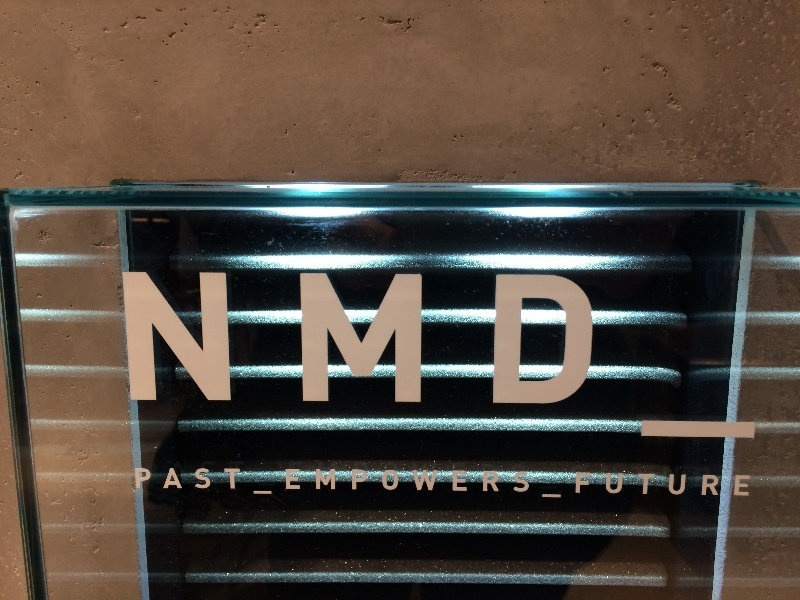text: (577, 272, 593, 404), (129, 272, 144, 404), (145, 272, 160, 404), (161, 272, 176, 404), (177, 272, 192, 404), (193, 272, 208, 404), (209, 272, 224, 404), (225, 272, 240, 404), (241, 272, 256, 404), (257, 272, 272, 404), (273, 272, 288, 404), (289, 272, 304, 404), (305, 272, 320, 404), (321, 272, 336, 404), (337, 272, 352, 404), (353, 272, 368, 404), (369, 272, 384, 404), (385, 272, 400, 404), (401, 272, 416, 404), (417, 272, 432, 404), (433, 272, 448, 404), (449, 272, 464, 404), (465, 272, 480, 404), (481, 272, 496, 404), (497, 272, 512, 404), (513, 272, 528, 404), (529, 272, 544, 404), (545, 272, 560, 404), (561, 272, 576, 404), (122, 272, 128, 404), (577, 472, 592, 496), (593, 472, 608, 496), (609, 472, 624, 496), (625, 472, 640, 496), (641, 472, 656, 496), (657, 472, 672, 496), (673, 472, 688, 496), (689, 472, 704, 496), (705, 472, 720, 496), (721, 472, 736, 496), (289, 470, 304, 493), (305, 470, 320, 493), (321, 470, 336, 493), (337, 470, 352, 493), (353, 470, 368, 493), (369, 470, 384, 493), (385, 470, 400, 493), (401, 470, 416, 493), (417, 470, 432, 493), (433, 470, 448, 493), (449, 470, 464, 493), (465, 470, 480, 493), (481, 470, 496, 493), (497, 470, 512, 493), (513, 470, 528, 493), (737, 472, 751, 496), (145, 469, 160, 489), (161, 469, 176, 489), (177, 469, 192, 489), (193, 469, 208, 489), (209, 469, 224, 489), (225, 469, 240, 489), (135, 469, 144, 489), (257, 489, 272, 501), (545, 492, 560, 501), (252, 489, 256, 501), (286, 470, 288, 493), (561, 492, 566, 501), (273, 489, 276, 501), (541, 492, 544, 501), (529, 470, 530, 493)
